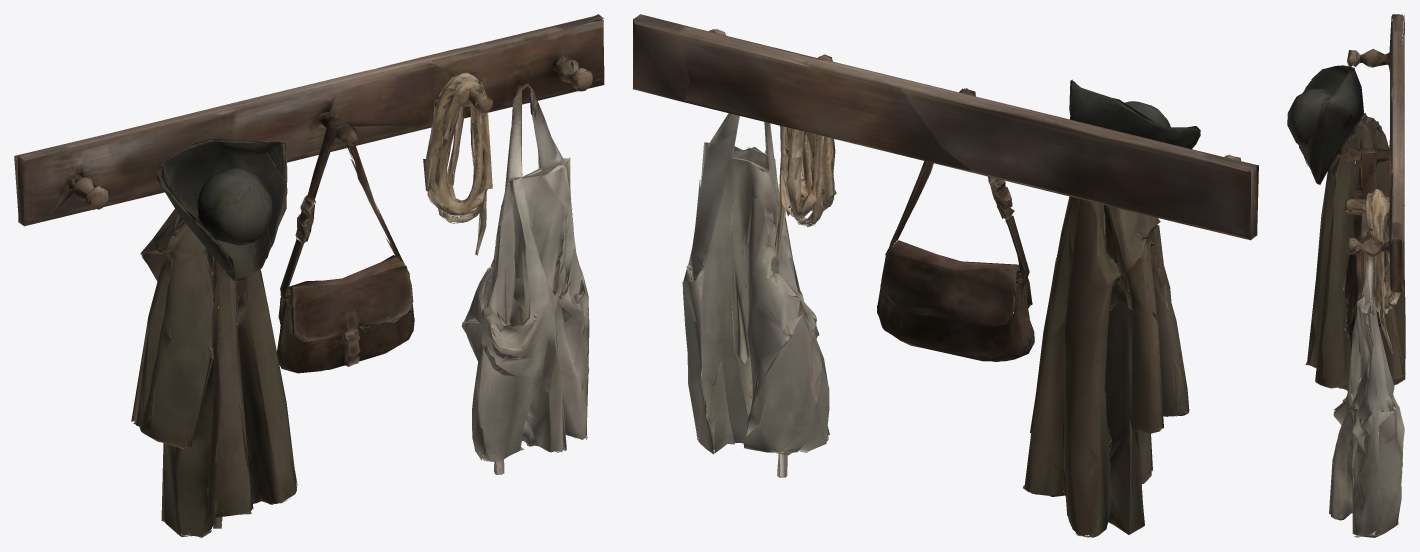
The model's file is int-wall-peg-cluster.glb.
3 renders of one model, left to right at view 1: azimuth 30°, elevation 25°; view 2: azimuth 150°, elevation 25°; view 3: azimuth 270°, elevation 25°, orthographic. The views are drawn at different scales.
Visible parts, largest first — view 1: Mesh_0; view 2: Mesh_0; view 3: Mesh_0.
Boxes of the visible parts, <box> form: Mesh_0: <box>14,14,604,537</box>; Mesh_0: <box>633,14,1258,537</box>; Mesh_0: <box>1287,14,1405,537</box>.
Size of the model in its own units: 1.91 by 1.31 by 0.4215.
Materials: 1 (1 with a texture image).
